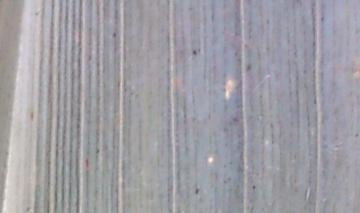tarspot: (245, 63, 253, 73), (193, 186, 200, 196), (191, 48, 199, 56), (111, 31, 118, 38), (251, 183, 257, 191)
